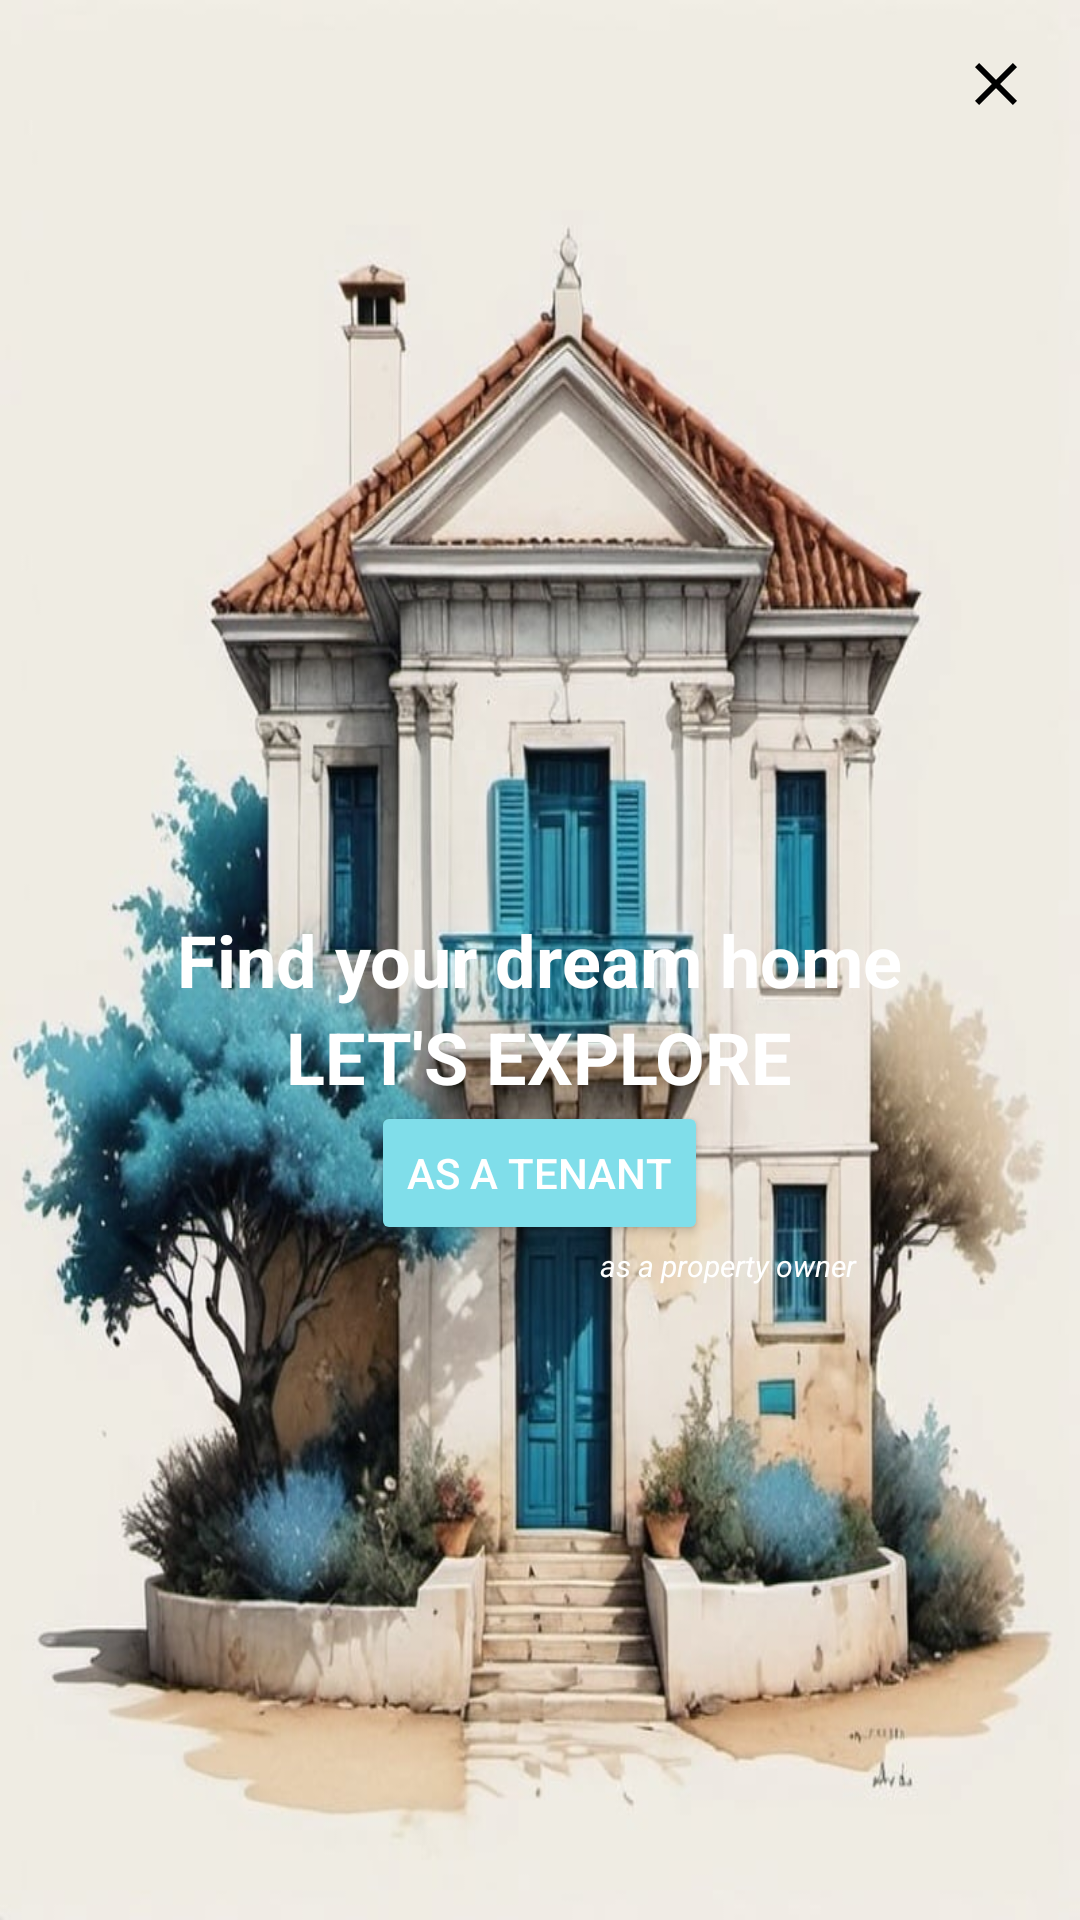

Icon click points for this 1080px×1920px phone screenshot, format point (x, y):
close: point (996, 84)
